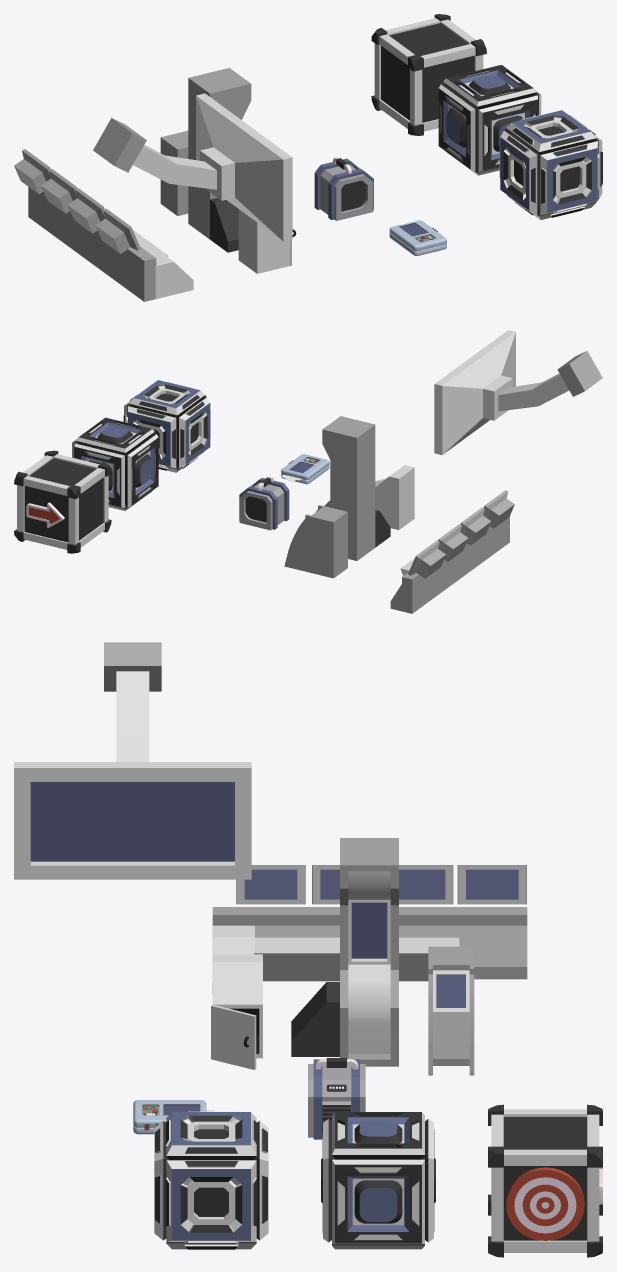
Rendered from props (1).fbx.
The picture shows the model from 3 angles, top to bottom: view 1: azimuth 30°, elevation 25°; view 2: azimuth 150°, elevation 25°; view 3: azimuth 270°, elevation 25°; orthographic projection. The views are drawn at different scales.
Visible parts, largest first — view 1: Television, Computers, Cube, Cube.003, Cube.002, LargeScreen, Box2, WallBox, SmallScreen, Cube.001, Shape, Cube.004; view 2: Television, Cube.003, Computers, LargeScreen, Cube, Cube.002, SmallScreen, Box2, WallBox, Cube.001, Cube.004, Plane.001 (+1 smaller); view 3: Television, Computers, Cube.002, Cube, LargeScreen, Cube.003, SmallScreen, WallBox, Circle, Box2, Shape, Cube.004 (+1 smaller).
Part boxes in pixels (x1,y1,x2,y2): Television: [93, 93, 292, 241]; Computers: [14, 149, 193, 301]; Cube: [499, 110, 602, 219]; Cube.003: [374, 18, 483, 131]; Cube.002: [438, 65, 541, 175]; LargeScreen: [188, 68, 251, 239]; Box2: [314, 157, 373, 220]; WallBox: [238, 209, 296, 273]; SmallScreen: [160, 130, 188, 215]; Cube.001: [389, 220, 446, 255]; Shape: [210, 198, 238, 252]; Cube.004: [371, 14, 486, 135]; Television: [434, 330, 602, 454]; Cube.003: [17, 454, 108, 549]; Computers: [390, 490, 514, 613]; LargeScreen: [322, 416, 375, 560]; Cube: [123, 380, 210, 472]; Cube.002: [72, 417, 158, 510]; SmallScreen: [284, 505, 347, 578]; Box2: [239, 476, 289, 530]; WallBox: [375, 465, 414, 529]; Cube.001: [281, 454, 329, 484]; Cube.004: [14, 450, 111, 553]; Plane.001: [26, 502, 64, 527]; Television: [14, 642, 251, 879]; Computers: [212, 865, 527, 994]; Cube.002: [321, 1112, 435, 1249]; Cube: [154, 1111, 268, 1249]; LargeScreen: [340, 838, 398, 1066]; Cube.003: [491, 1109, 599, 1252]; SmallScreen: [428, 946, 474, 1075]; WallBox: [211, 954, 262, 1069]; Circle: [506, 1167, 584, 1240]; Box2: [308, 1058, 365, 1139]; Shape: [291, 982, 339, 1056]; Cube.004: [488, 1104, 602, 1257].
Size of the model in its own units: 1933 by 757 by 1411.
